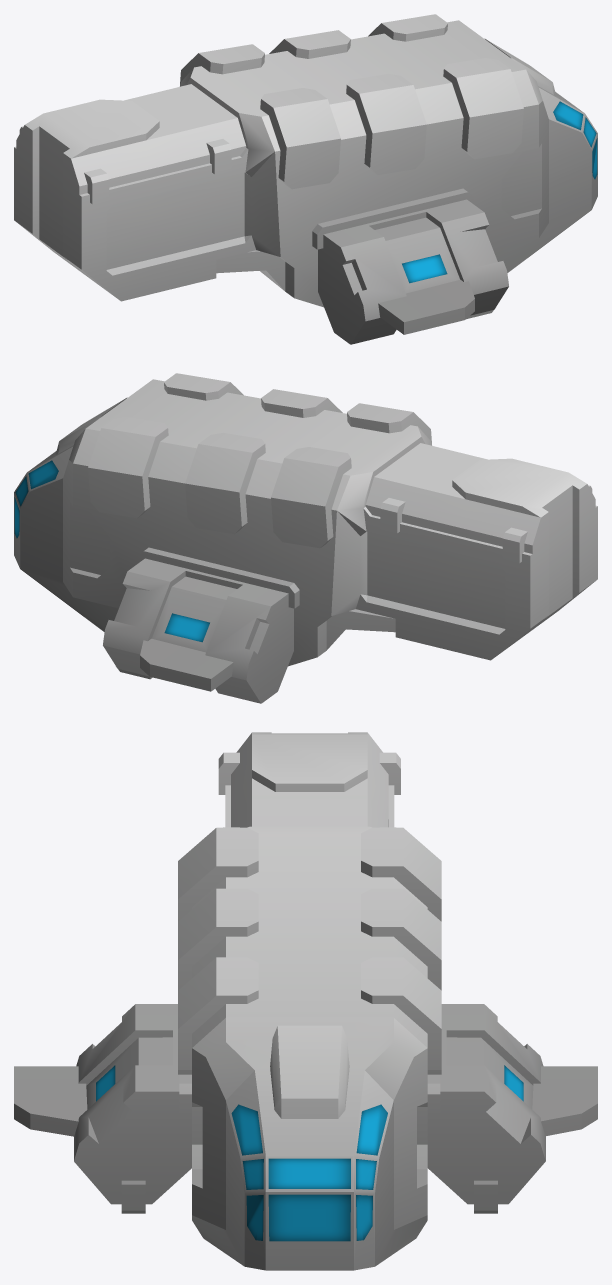
File: hull3.fbx
3 views of the same model, one above another, from view 1: azimuth 30°, elevation 25°; view 2: azimuth 150°, elevation 25°; view 3: azimuth 270°, elevation 25° (orthographic). The views are drawn at different scales.
Parts seen in each view (by area): view 1: hull3.0; view 2: hull3.0; view 3: hull3.0.
Part boxes in pixels (bbox=[...]): hull3.0: bbox=[14, 14, 597, 344]; hull3.0: bbox=[14, 373, 597, 703]; hull3.0: bbox=[14, 732, 597, 1270].
Size of the model in its own units: 3.71 by 1.47 by 2.82.
